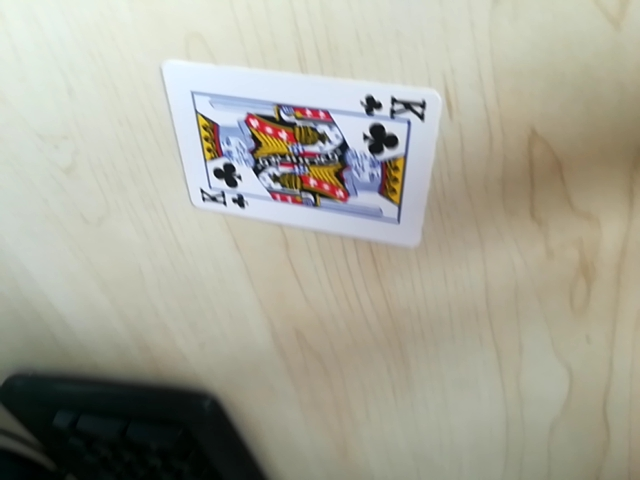mh k: (364, 93, 431, 120), (193, 183, 245, 213)
